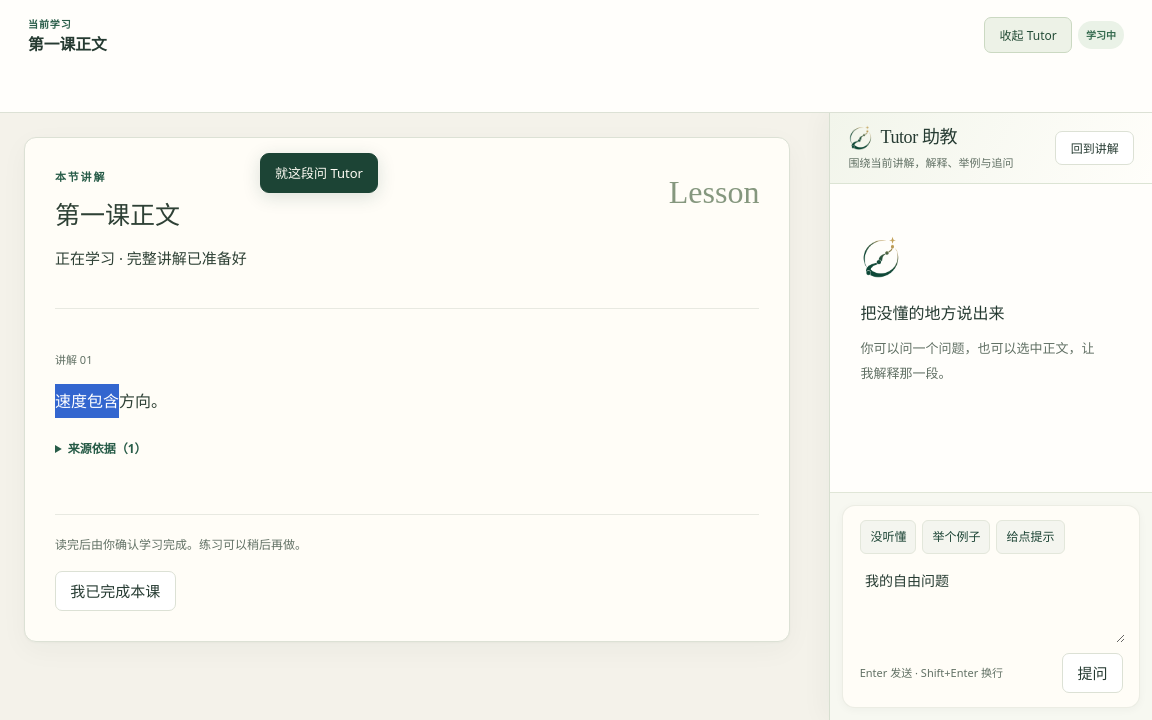
Test: 连续阅读的引用和可选课堂思考 › 在选区旁打开 Tutor，引用独立展示，保留自由问题而不套固定 Prompt
Click the button "就这段问 Tutor".
click(319, 173)  # box [260,153,378,193]
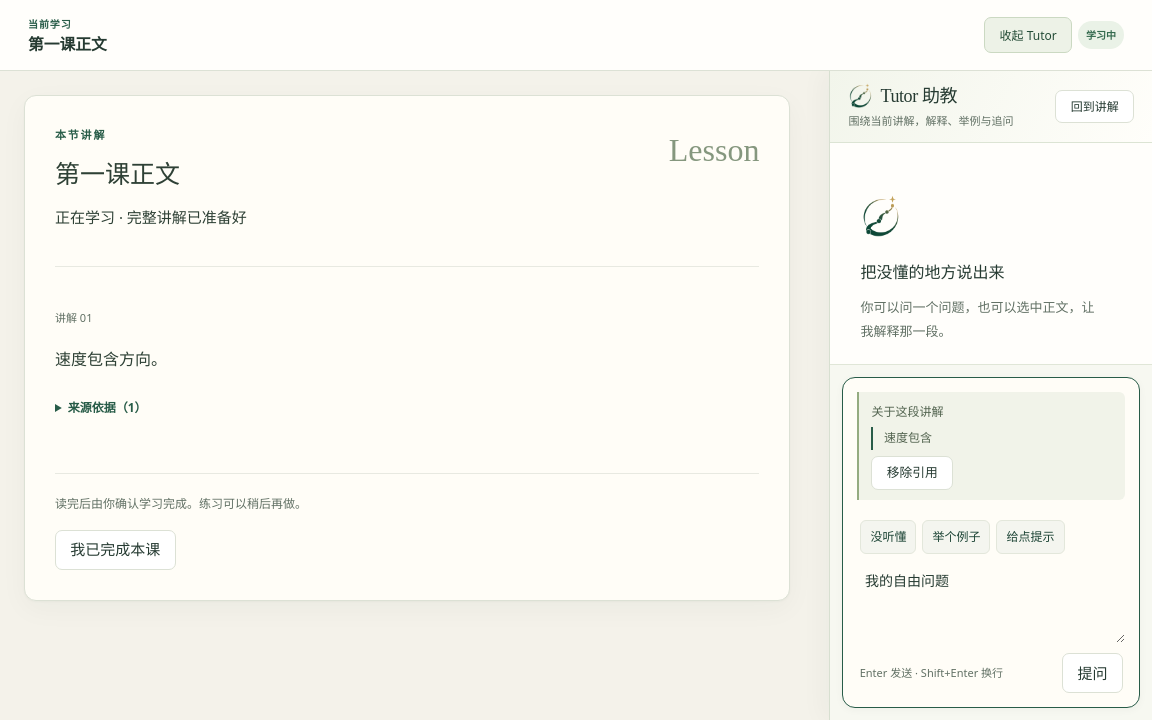
Expected: the text box named "课堂问题" holds "我的自由问题", [858,566,1125,643]
Now the text "速度包含" is shown, box [872,428,1113,450]
Click the button "移除引用".
click(912, 473)  # box [872,456,953,490]
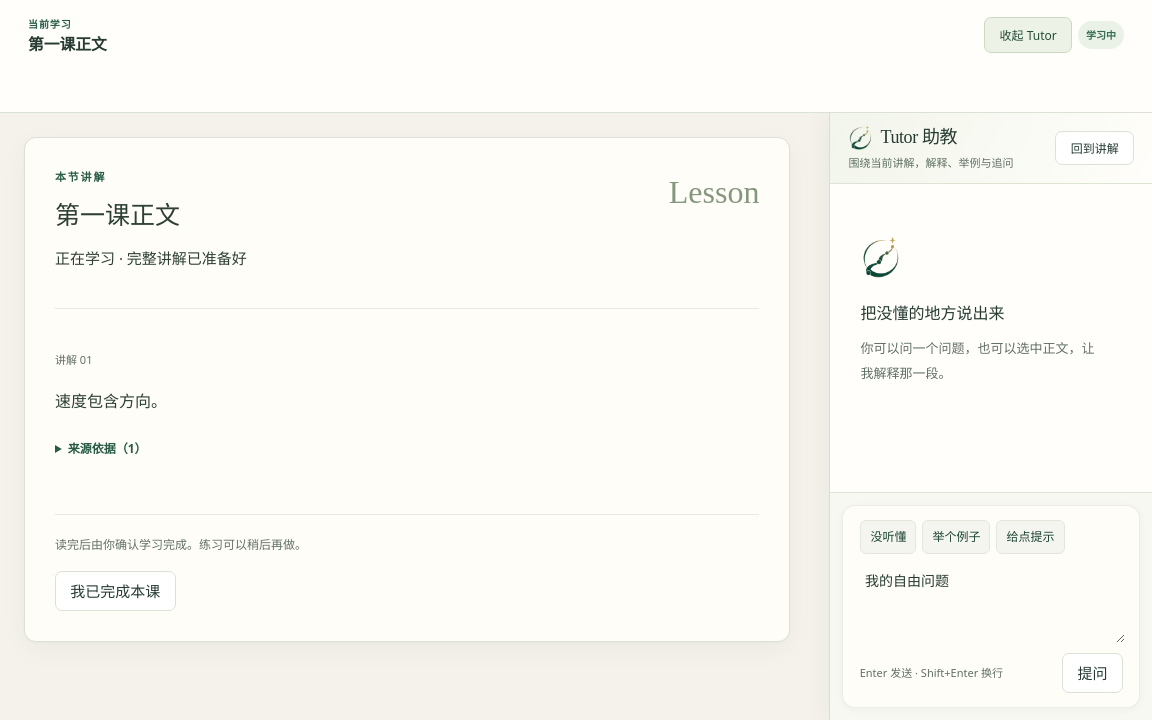
Expected: the text box named "课堂问题" holds "我的自由问题", [858,566,1125,643]
Now the element with class "study-tutor-selection" is gone
